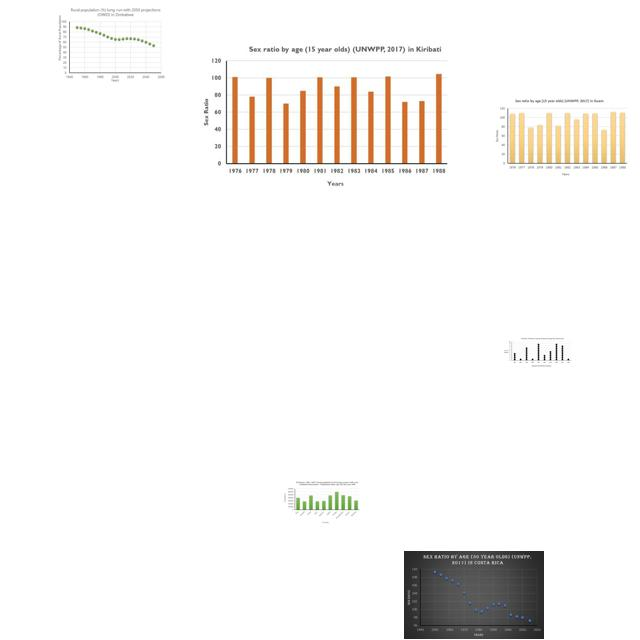Graph: (197, 39, 454, 190), (404, 551, 544, 639), (491, 96, 632, 178), (56, 6, 169, 85), (283, 481, 361, 524), (503, 337, 572, 367)
